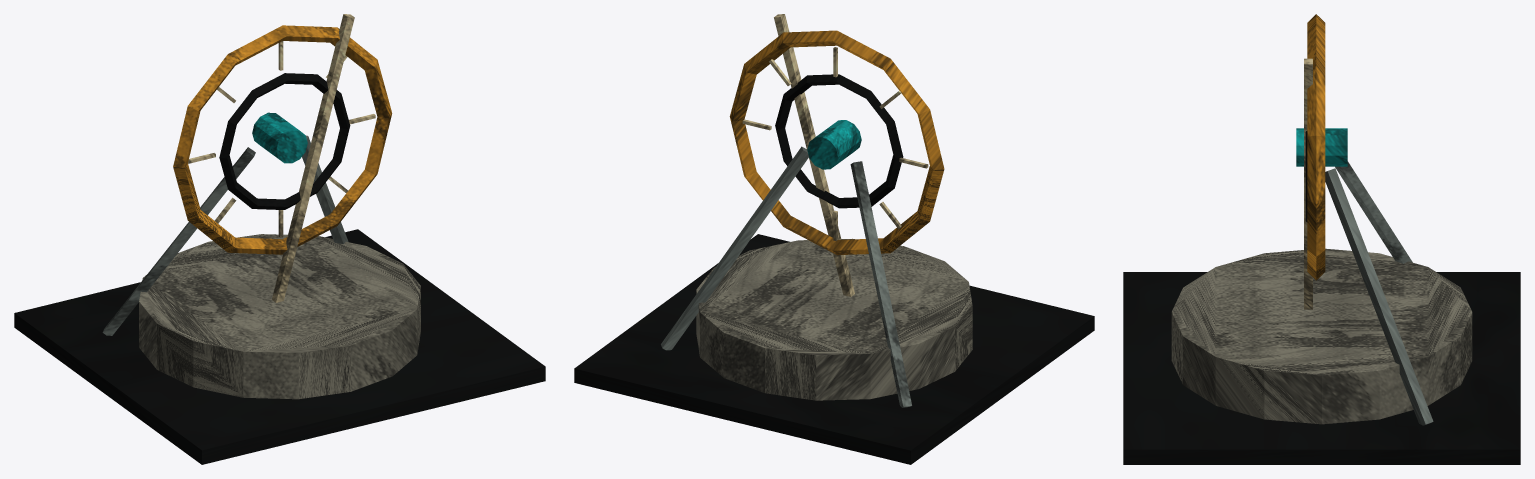
The model's file is eclipse-shadow-dial.glb.
The picture shows the model from 3 angles, left to right: view 1: azimuth 30°, elevation 25°; view 2: azimuth 150°, elevation 25°; view 3: azimuth 270°, elevation 25°; orthographic projection. The views are drawn at different scales.
Parts seen in each view (by area): view 1: eclipse-shadow-dial; view 2: eclipse-shadow-dial; view 3: eclipse-shadow-dial.
Boxes of the visible parts, x1,y1,x2,y2 form: eclipse-shadow-dial: [14, 14, 545, 464]; eclipse-shadow-dial: [574, 14, 1094, 464]; eclipse-shadow-dial: [1123, 14, 1520, 464].
Bounding box in the file's own units: 7.4 × 6.81 × 7.
1 material, 1 textured.
